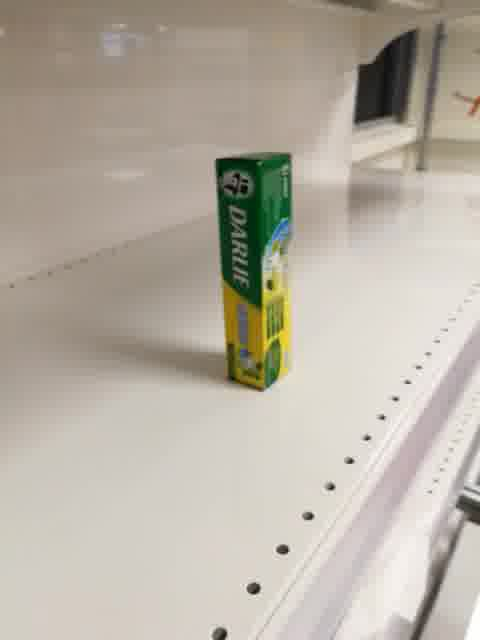toothpaste: (215, 152, 291, 392)
